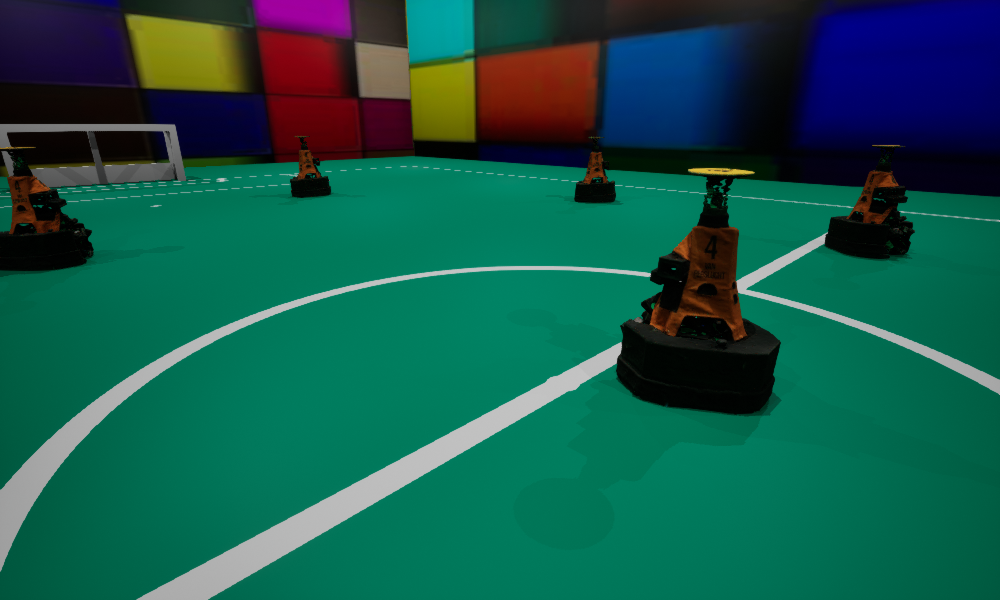0 orange robot TechUnited: (616, 168, 780, 413), (0, 147, 93, 270), (825, 145, 914, 258), (574, 137, 615, 202), (290, 136, 330, 197)
